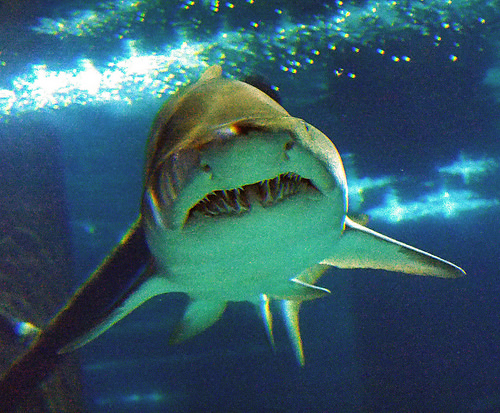shark: (32, 43, 476, 376)
